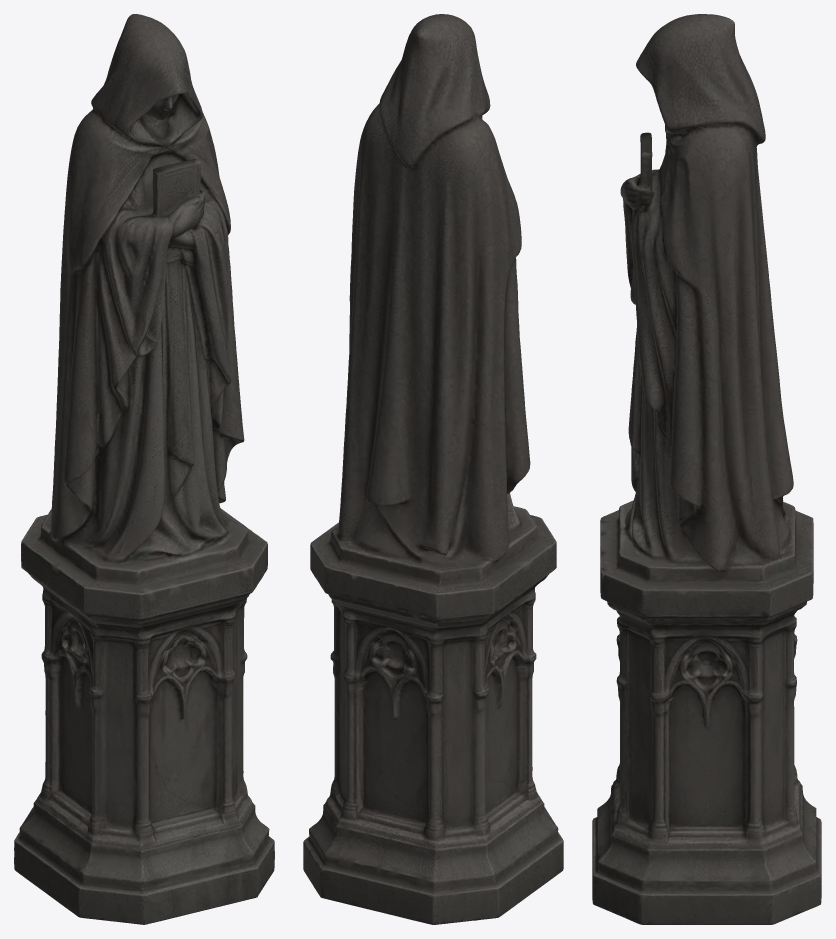
Rendered from lady.glb.
The picture shows the model from 3 angles, left to right: view 1: azimuth 30°, elevation 25°; view 2: azimuth 150°, elevation 25°; view 3: azimuth 270°, elevation 25°; orthographic projection.
Parts seen in each view (by area): view 1: mesh_node; view 2: mesh_node; view 3: mesh_node.
Boxes of the visible parts, box(x1,y1,x2,y2) form: mesh_node: box(14, 14, 274, 924); mesh_node: box(303, 14, 563, 924); mesh_node: box(592, 14, 821, 924).
Size of the model in its own units: 0.4587 by 1.9 by 0.4589.
Materials: 1 (1 with a texture image).
